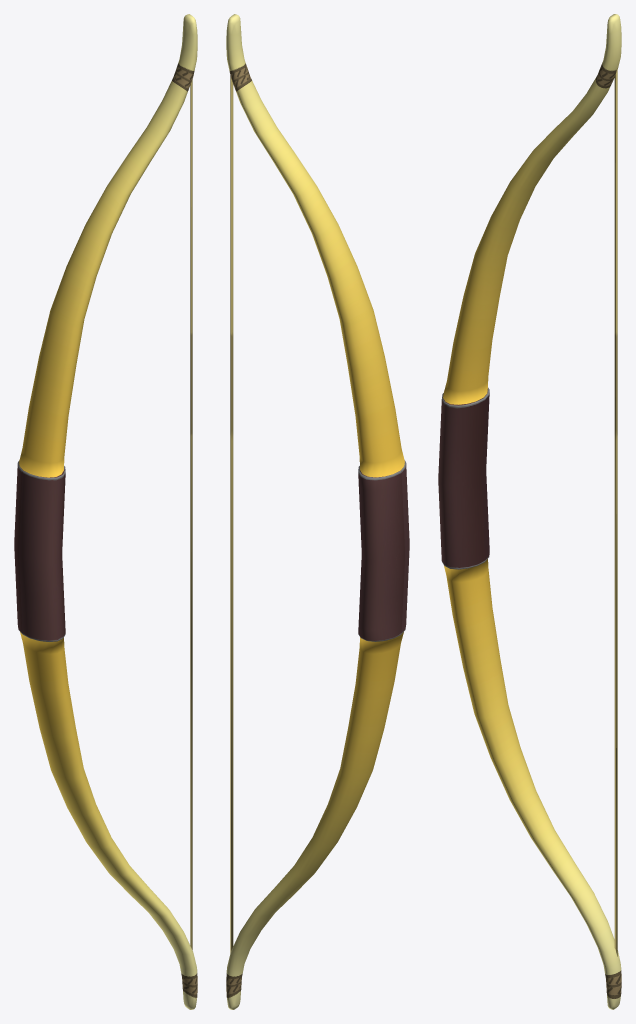
File: Bow.glb
The picture shows the model from 3 angles, left to right: view 1: azimuth 30°, elevation 25°; view 2: azimuth 150°, elevation 25°; view 3: azimuth 330°, elevation 25°; orthographic projection.
Parts seen in each view (by area): view 1: Cube; view 2: Cube; view 3: Cube.
Boxes of the visible parts, x1,y1,x2,y2 form: Cube: (14, 14, 197, 1009); Cube: (226, 14, 409, 1009); Cube: (438, 14, 621, 1009).
Size of the model in its own units: 0.4777 by 2.55 by 0.1474.
Materials: 1 (1 with a texture image).
